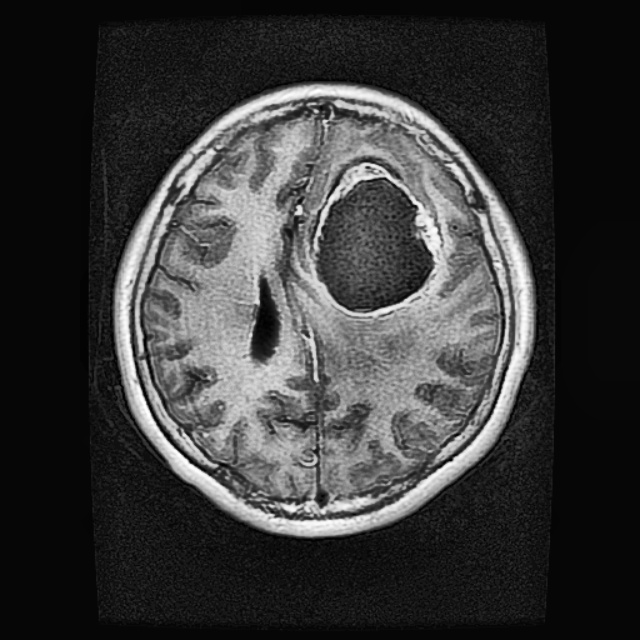Pituitary: (310, 154, 442, 318)
